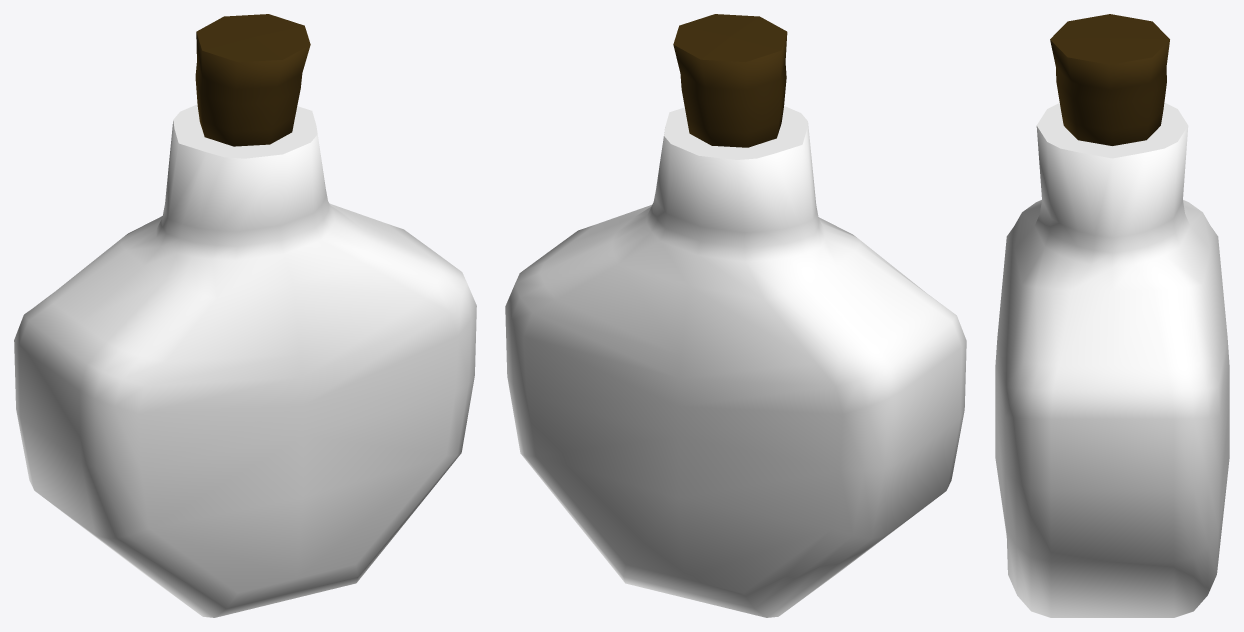
Rendered from flask.fbx.
3 views of the same model, side by side, from view 1: azimuth 30°, elevation 25°; view 2: azimuth 150°, elevation 25°; view 3: azimuth 270°, elevation 25° (orthographic).
Visible parts, largest first — view 1: flask; view 2: flask; view 3: flask.
Boxes of the visible parts, x1=… form: flask: x1=14, y1=14, x2=476, y2=617; flask: x1=505, y1=14, x2=966, y2=617; flask: x1=995, y1=14, x2=1229, y2=617.
Bounding box in the file's own units: 2.06 × 2.7 × 1.05.
